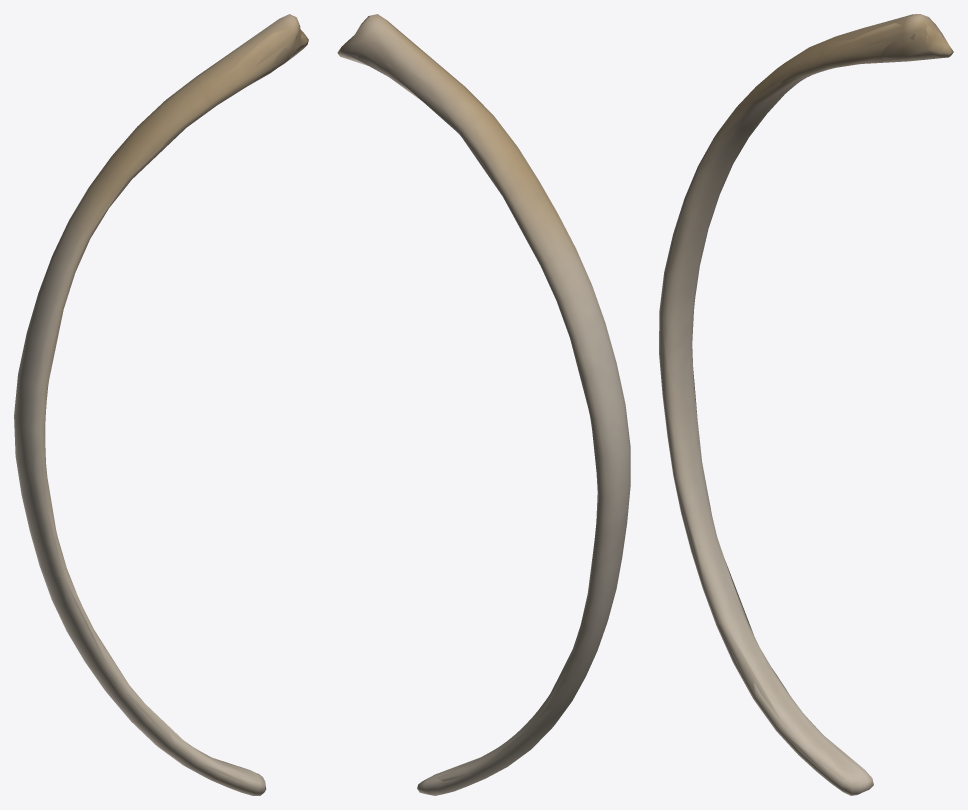
Rendered from Rib R05.fbx.
3 views of the same model, side by side, from view 1: azimuth 30°, elevation 25°; view 2: azimuth 150°, elevation 25°; view 3: azimuth 330°, elevation 25° (orthographic). The views are drawn at different scales.
Visible parts, largest first — view 1: Rib R05, Rib R05 low, Rib R05 high; view 2: Rib R05, Rib R05 low, Rib R05 high; view 3: Rib R05, Rib R05 high, Rib R05 low.
Part boxes in pixels (x1,y1,x2,y2): Rib R05: (14,14,308,795); Rib R05 low: (18,16,303,792); Rib R05 high: (19,30,305,791); Rib R05: (337,14,630,795); Rib R05 low: (337,17,630,791); Rib R05 high: (346,23,627,789); Rib R05: (659,14,953,795); Rib R05 high: (660,20,946,790); Rib R05 low: (659,14,951,794).
Size of the model in its own units: 6.33 by 16.12 by 1.9.
1 material, 1 textured.
